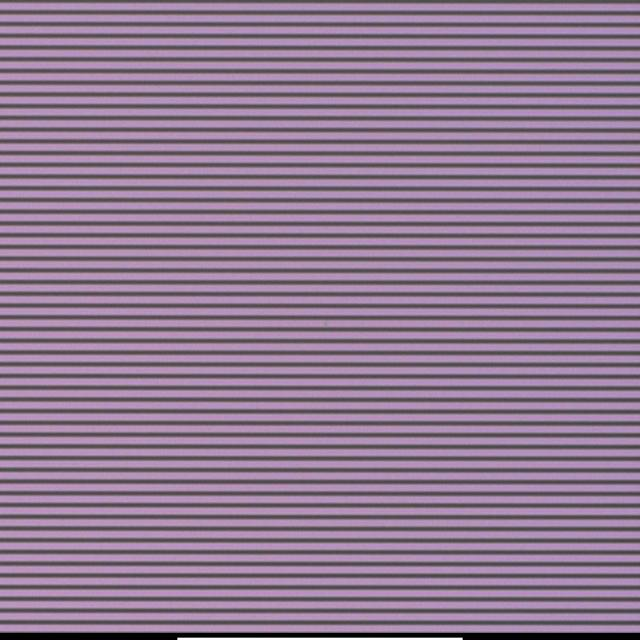nonvisual: (322, 322, 331, 335)
